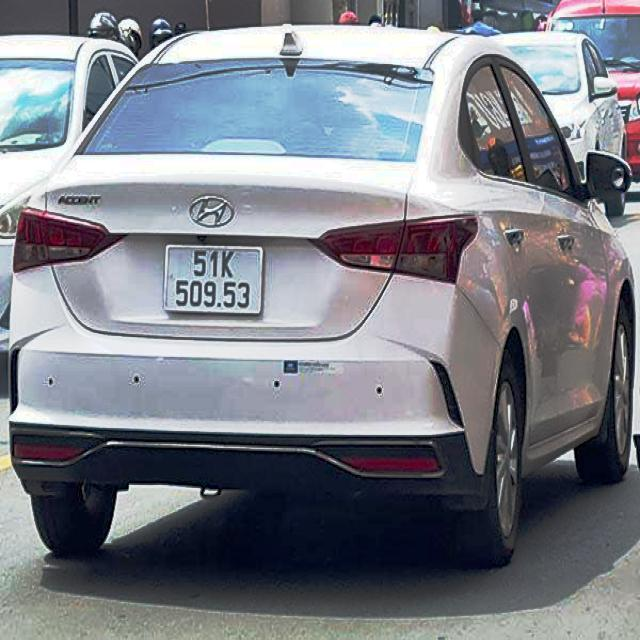license_plate: (166, 247, 263, 316)
